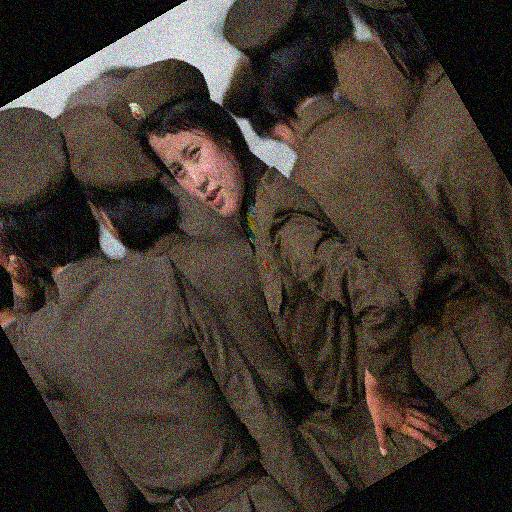north army: (17, 34, 512, 512)
